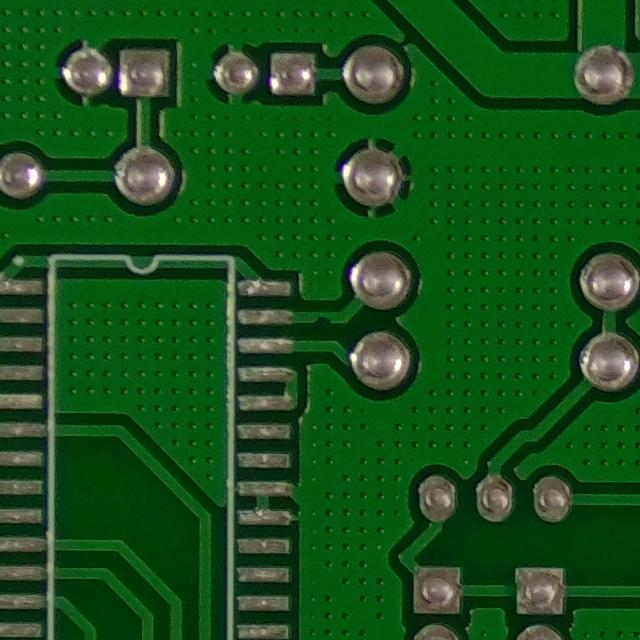mouse_bite: (304, 305, 337, 335)
